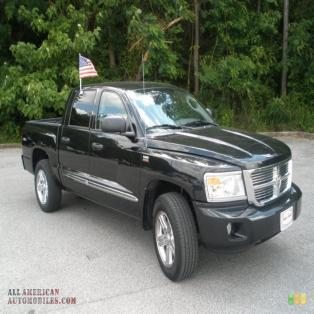Auto: (21, 50, 300, 282)
